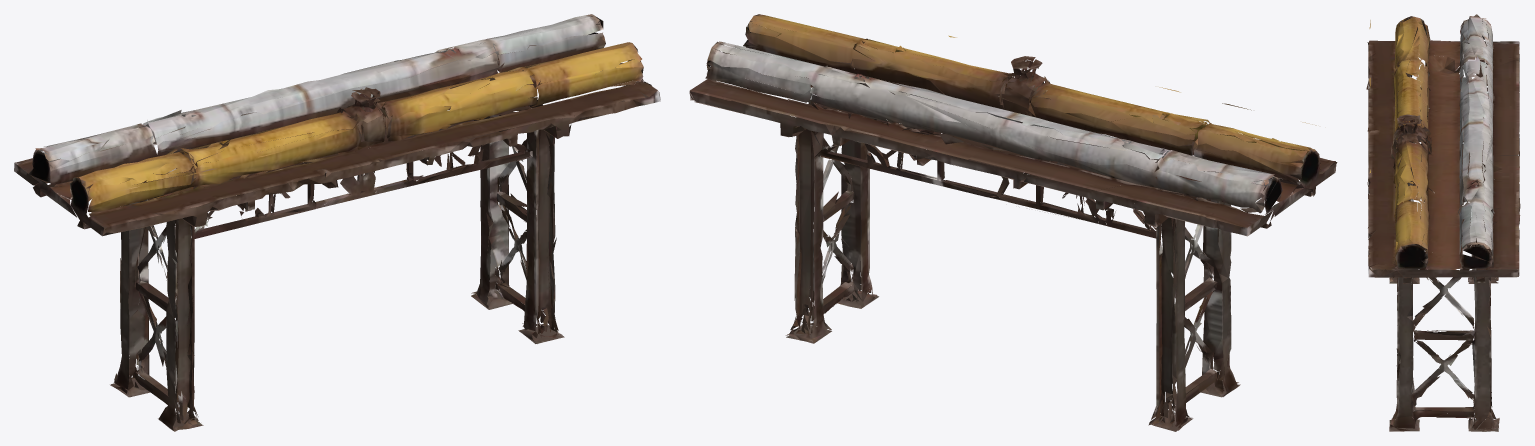
The model's file is prop_pipe_rack.glb.
3 views of the same model, side by side, from view 1: azimuth 30°, elevation 25°; view 2: azimuth 150°, elevation 25°; view 3: azimuth 270°, elevation 25° (orthographic). The views are drawn at different scales.
Visible parts, largest first — view 1: prop_pipe_rack; view 2: prop_pipe_rack; view 3: prop_pipe_rack.
Part boxes in pixels (box(x1,y1,x2,y2)): prop_pipe_rack: box(14, 14, 660, 431); prop_pipe_rack: box(689, 14, 1337, 431); prop_pipe_rack: box(1366, 14, 1520, 431).
Size of the model in its own units: 11.98 by 5.76 by 3.39.
Materials: 1 (1 with a texture image).
